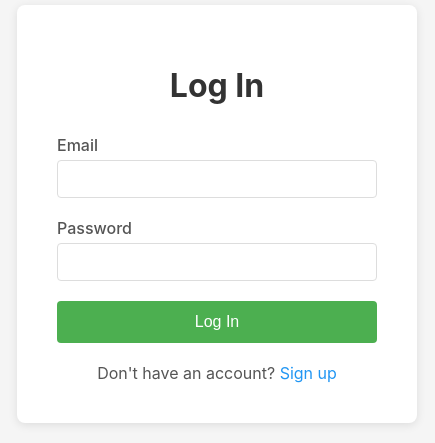
Test case: LoginPage › shows loading state during login
Type "test@example.com" into the field labelled "Email".
click(217, 179); type("test@example.com")  # box [57,160,377,198]
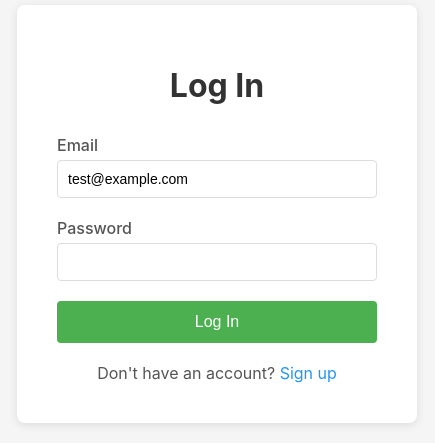
Type "password123" into the password field labelled "Password".
click(217, 262); type("password123")  # box [57,243,377,281]
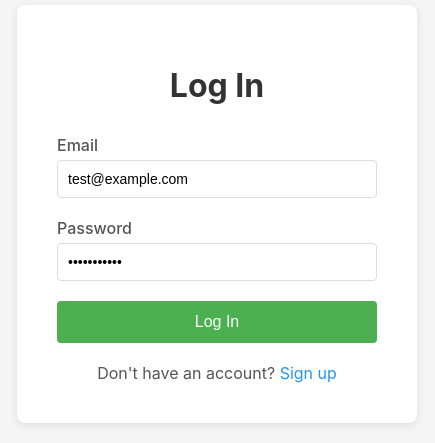
Click the button "Log In".
click(217, 322)  # box [57,301,377,343]
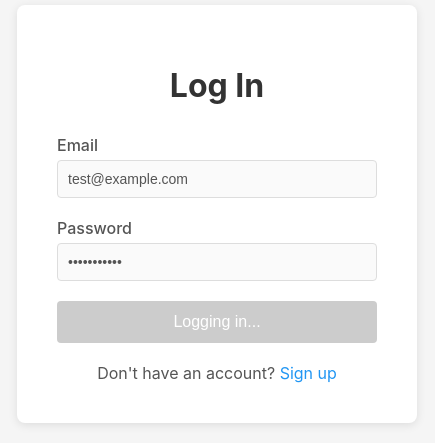
Now the button "Logging in..." is disabled, box [57,301,377,343]
